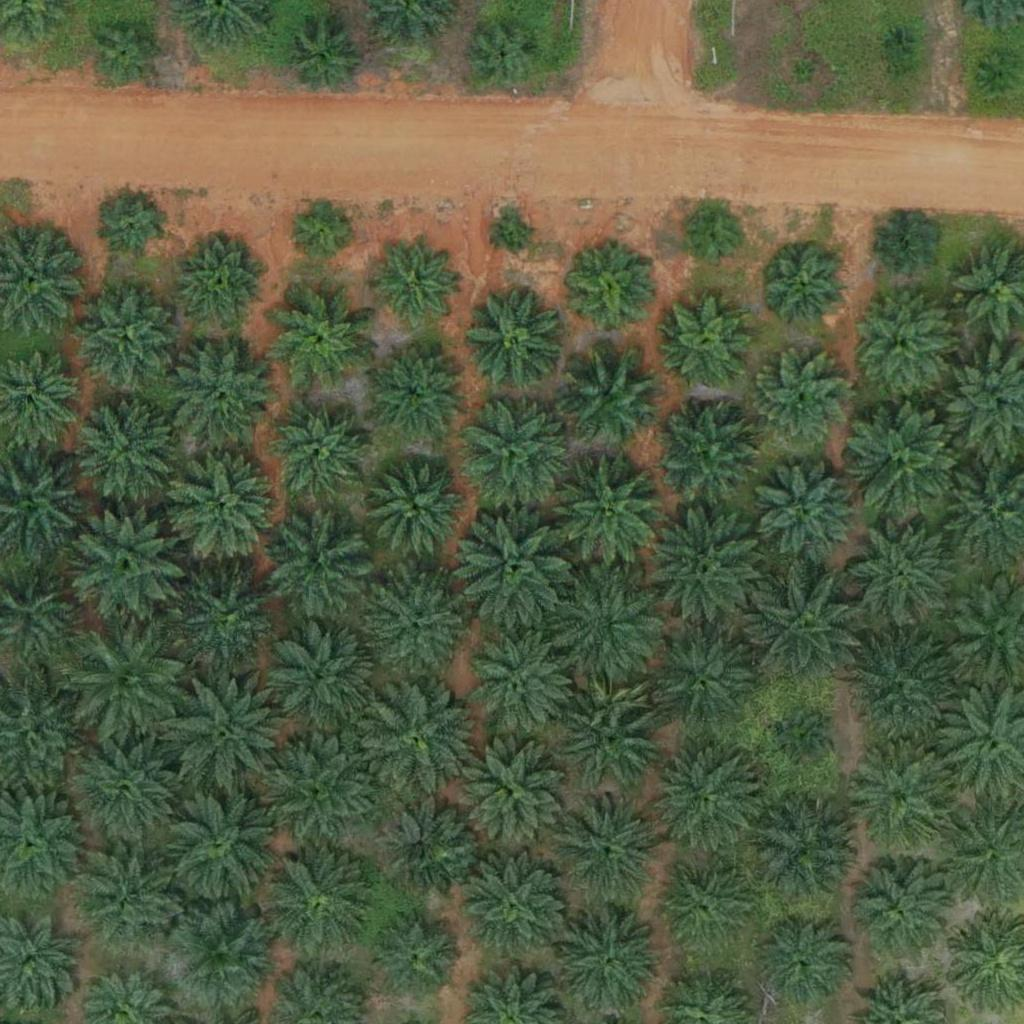Kelapa_Sawit: (66, 504, 191, 630), (64, 622, 189, 748), (161, 670, 286, 796), (449, 508, 574, 634), (542, 565, 667, 691), (638, 507, 763, 633), (743, 566, 868, 692), (844, 397, 969, 523), (840, 626, 965, 752), (157, 784, 282, 910), (64, 724, 189, 850), (162, 447, 287, 572), (352, 678, 477, 803), (259, 727, 384, 852), (259, 840, 384, 965), (552, 456, 665, 570), (652, 397, 765, 511), (751, 792, 864, 906), (644, 624, 757, 737), (649, 741, 762, 854), (557, 906, 670, 1019), (849, 741, 961, 855), (458, 391, 570, 504), (461, 627, 573, 740), (551, 676, 663, 789), (752, 458, 864, 571), (843, 515, 955, 628), (648, 855, 760, 968), (553, 789, 665, 902), (76, 285, 176, 386), (76, 397, 176, 498), (171, 342, 271, 443), (179, 569, 279, 670), (273, 289, 373, 390), (268, 404, 368, 505), (269, 518, 369, 619), (273, 622, 373, 723), (365, 341, 465, 442), (367, 457, 467, 558), (364, 573, 464, 674), (461, 745, 561, 846), (748, 351, 848, 452), (852, 292, 952, 393), (465, 859, 565, 960), (373, 796, 473, 897), (173, 905, 273, 1006), (82, 848, 182, 949), (465, 286, 565, 386), (560, 344, 660, 444), (845, 862, 945, 962), (753, 917, 853, 1017), (370, 916, 458, 1005), (370, 241, 458, 329), (663, 296, 751, 384), (762, 245, 850, 333), (182, 238, 269, 326), (569, 250, 656, 338), (468, 16, 543, 92), (286, 22, 361, 97), (90, 16, 165, 91), (773, 712, 836, 775), (874, 215, 937, 278), (103, 195, 165, 258), (289, 196, 351, 259), (684, 208, 746, 271), (981, 53, 1019, 91), (496, 216, 533, 254), (792, 60, 817, 85), (885, 28, 910, 53)
